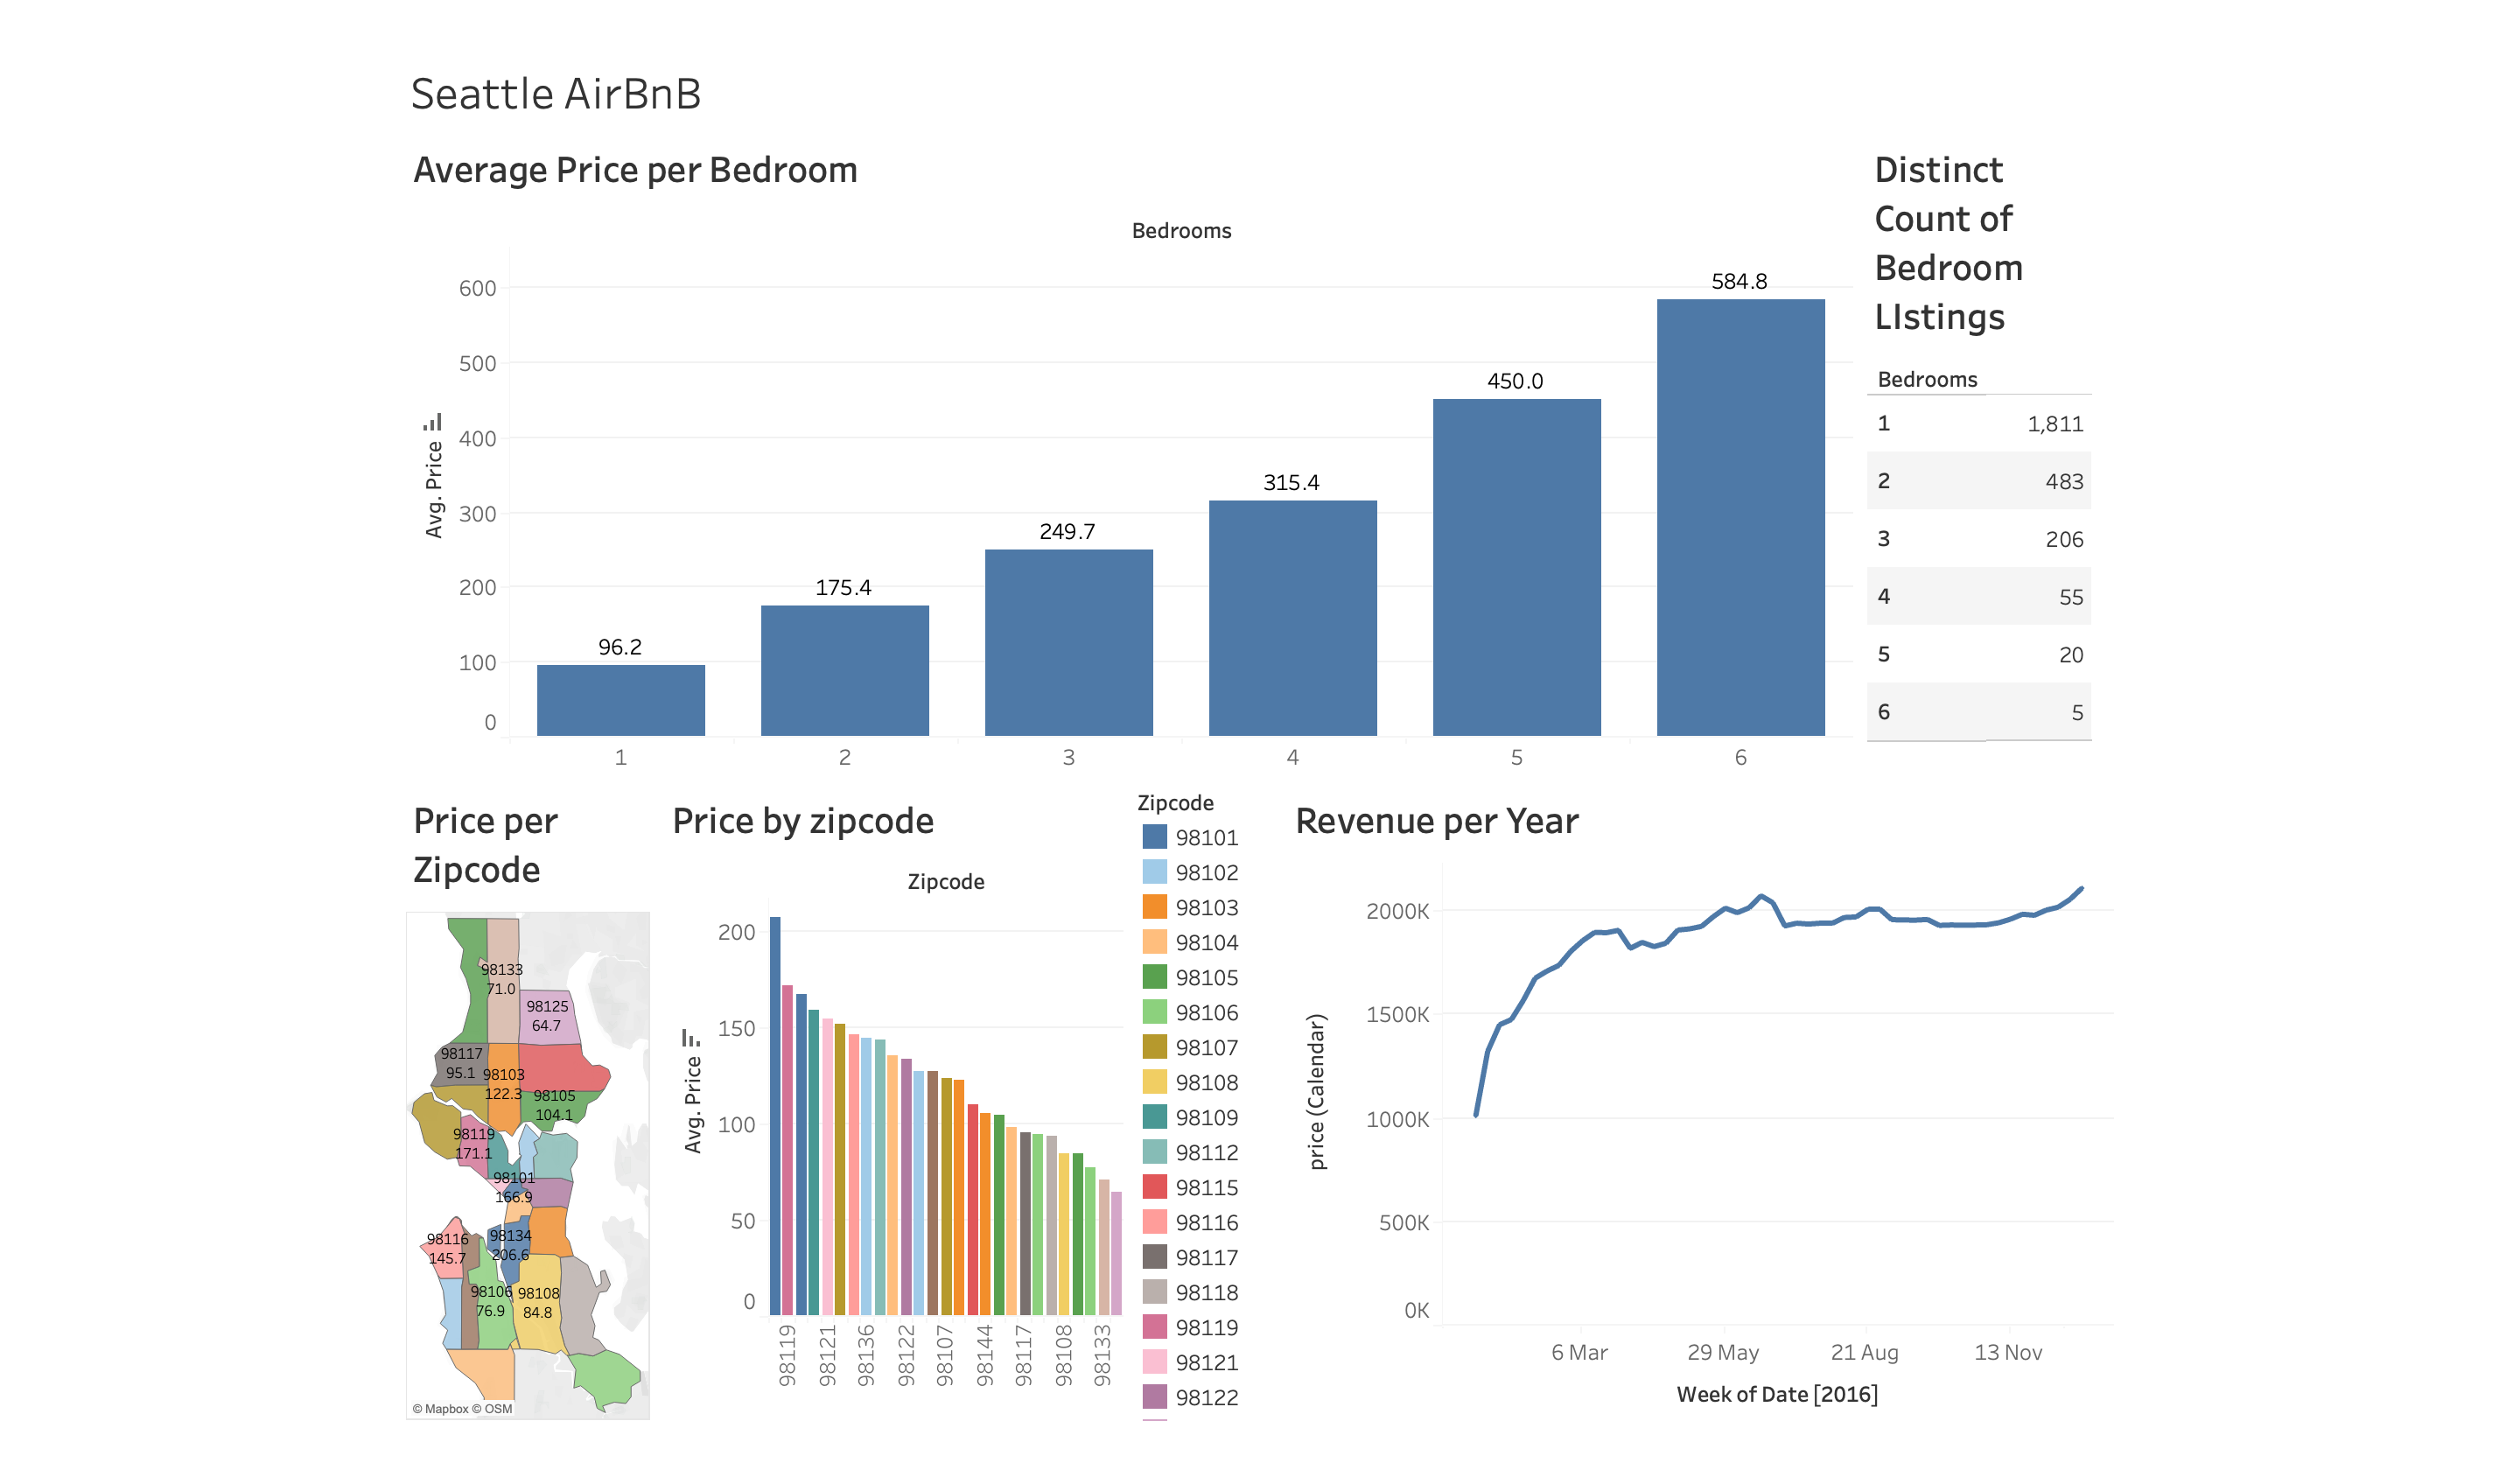

The page's visual inventory and layout, read from the dashboard file:
{"tool":"tableau","page":{"name":"Dashboard 1","canvas":[1000,800],"ordinal":0},"visuals":[{"type":"worksheet","title":"Sheet 5","mark":"Automatic","rows":["price"],"cols":["bedrooms"],"box":[8,8,835,392]},{"type":"worksheet","title":"Sheet 6","mark":"Automatic","rows":["bedrooms"],"box":[843,8,149,392]},{"type":"worksheet","title":"Sheet 3","mark":"Multipolygon","box":[8,400,148,392]},{"type":"worksheet","title":"Sheet 1","mark":"Automatic","rows":["price"],"cols":["zipcode"],"box":[156,400,270,392]},{"type":"legend","title":"Sheet 1","param":"[federated.1b1ruvf0e3rb1c15h5kae0kdsgr0].[none:zipcode:ok]","box":[426,400,86,392]},{"type":"worksheet","title":"Sheet 4","mark":"Automatic","rows":["price (Calendar)"],"cols":["date"],"box":[512,400,480,392]}]}

Visuals, with their boxes on the page's 1000x800 design canvas (x1, y1, x2, y2). These are canvas units, not pixel positions in the 2520x1470 screenshot, which may show the page scaled, cropped or inside an application window:
"Sheet 5" worksheet: 8, 8, 843, 400
"Sheet 6" worksheet: 843, 8, 992, 400
"Sheet 3" worksheet (Multipolygon marks): 8, 400, 156, 792
"Sheet 1" worksheet: 156, 400, 426, 792
"Sheet 1" legend: 426, 400, 512, 792
"Sheet 4" worksheet: 512, 400, 992, 792
